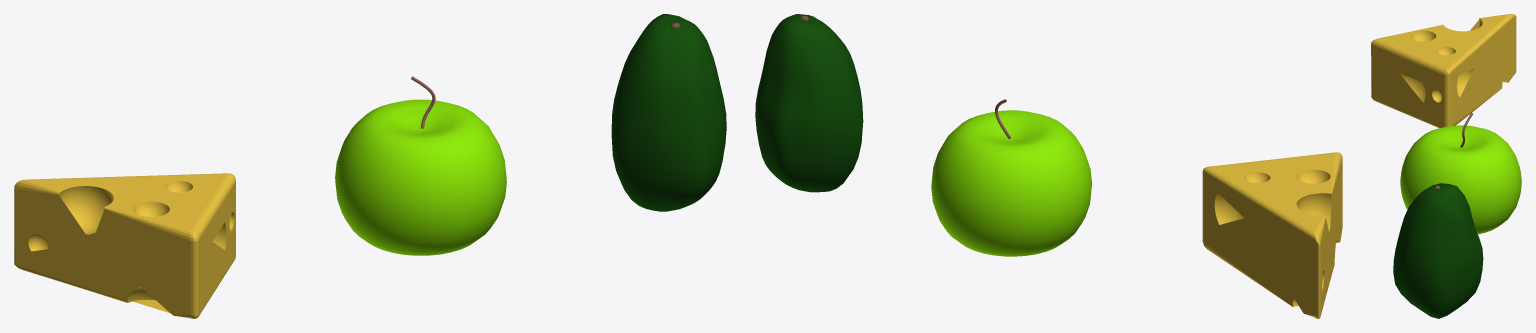
File: FoodTeo.fbx
3 renders of one model, left to right at view 1: azimuth 30°, elevation 25°; view 2: azimuth 150°, elevation 25°; view 3: azimuth 270°, elevation 25°, orthographic. The views are drawn at different scales.
Visible parts, largest first — view 1: Cheese, Apple, Cube; view 2: Apple, Cheese, Cube; view 3: Cheese, Cube, Apple.
Boxes of the visible parts, x1,y1,x2,y2 form: Cheese: [14, 173, 235, 318]; Apple: [335, 76, 506, 255]; Cube: [611, 14, 726, 211]; Apple: [931, 99, 1091, 256]; Cheese: [1202, 152, 1342, 318]; Cube: [755, 14, 863, 192]; Cheese: [1371, 14, 1516, 128]; Cube: [1393, 183, 1483, 318]; Apple: [1400, 112, 1521, 234].
Size of the model in its own units: 721 by 195 by 204.
